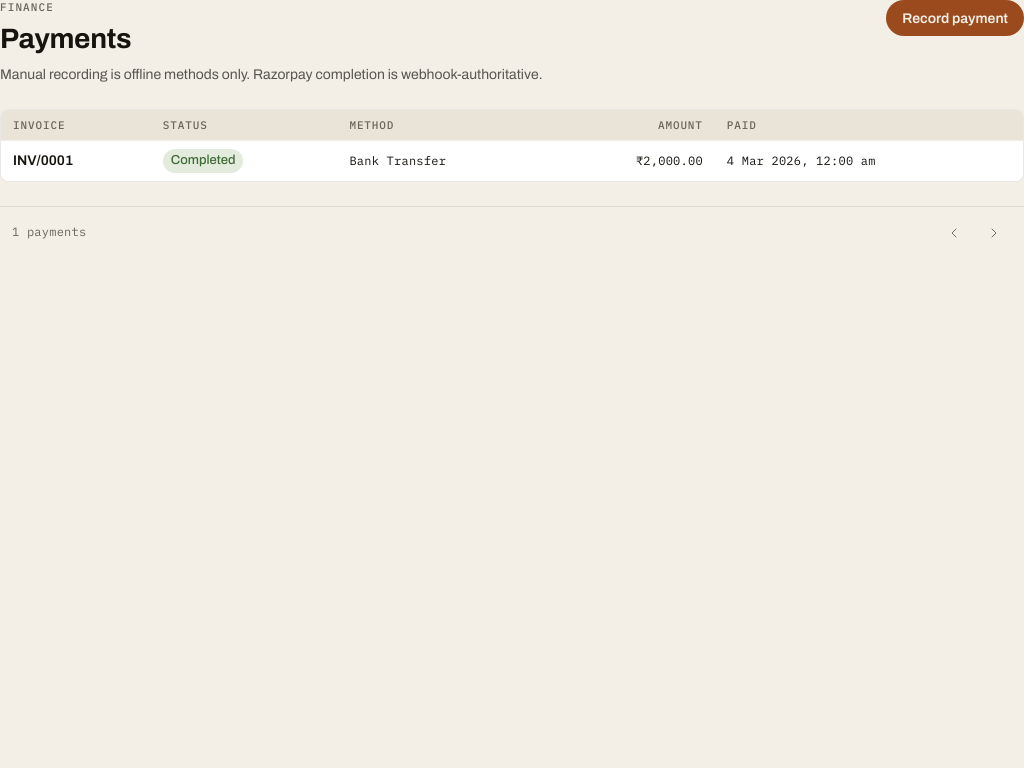
Payments list › validates offline payment create
Click the button "Record payment".
click(955, 18)  # box [886, 0, 1023, 36]
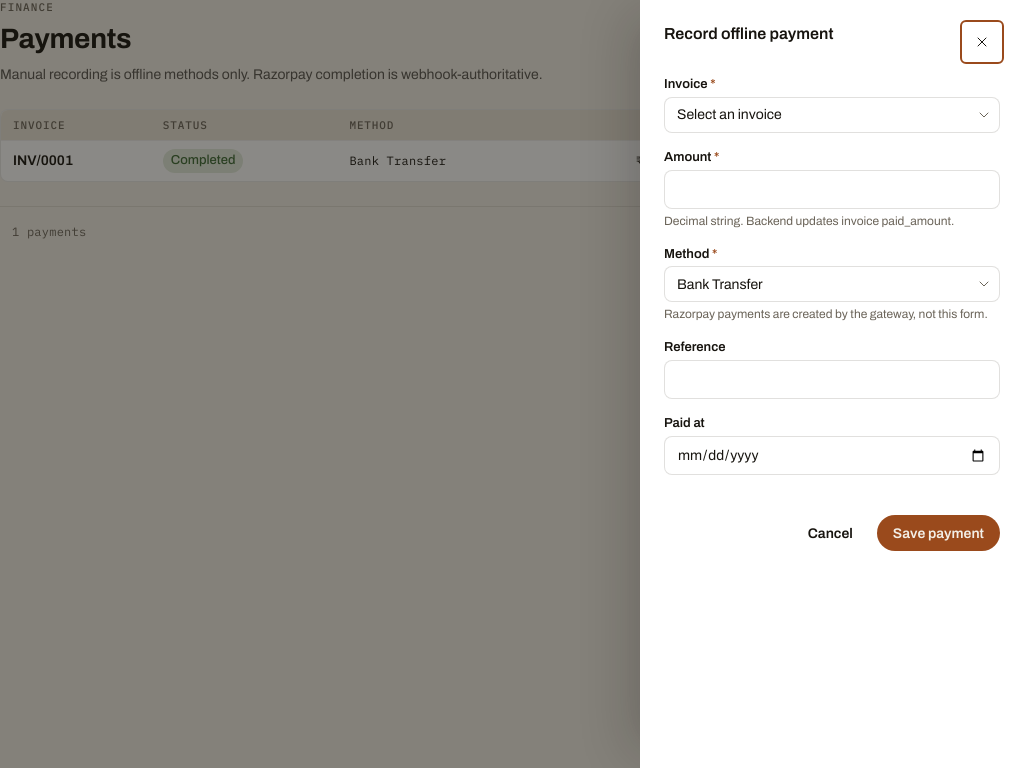
Click the button "Save payment".
click(938, 533)  # box [877, 515, 1000, 551]
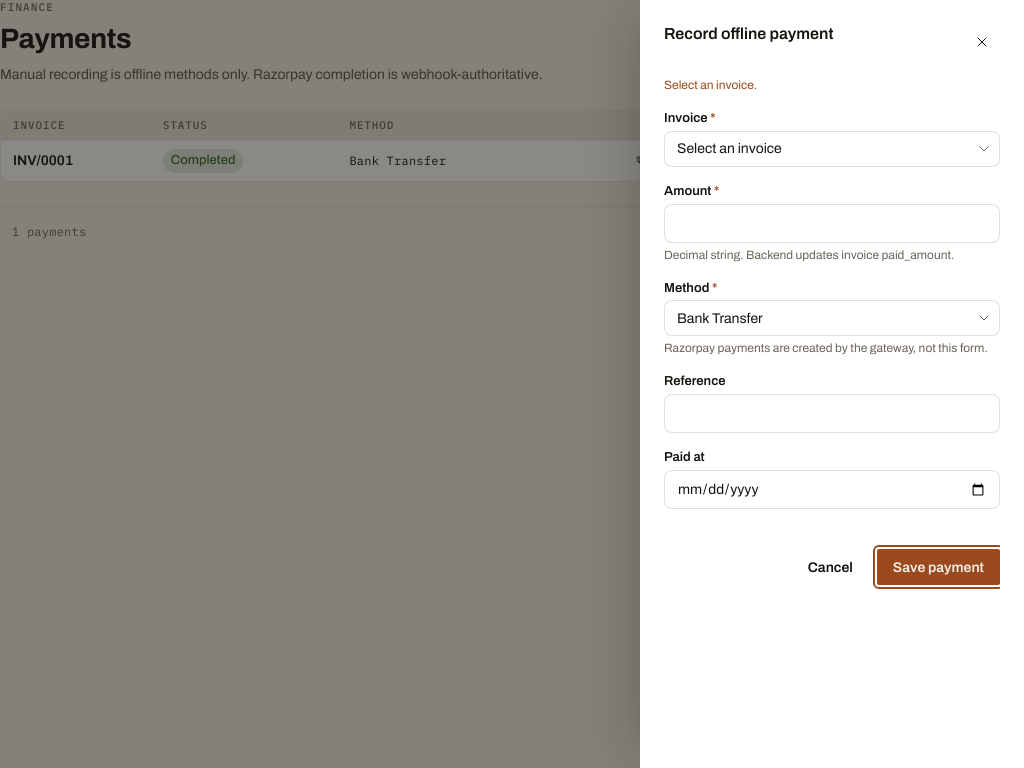
Expected: the text "Select an invoice." is shown, [664, 78, 757, 92]
